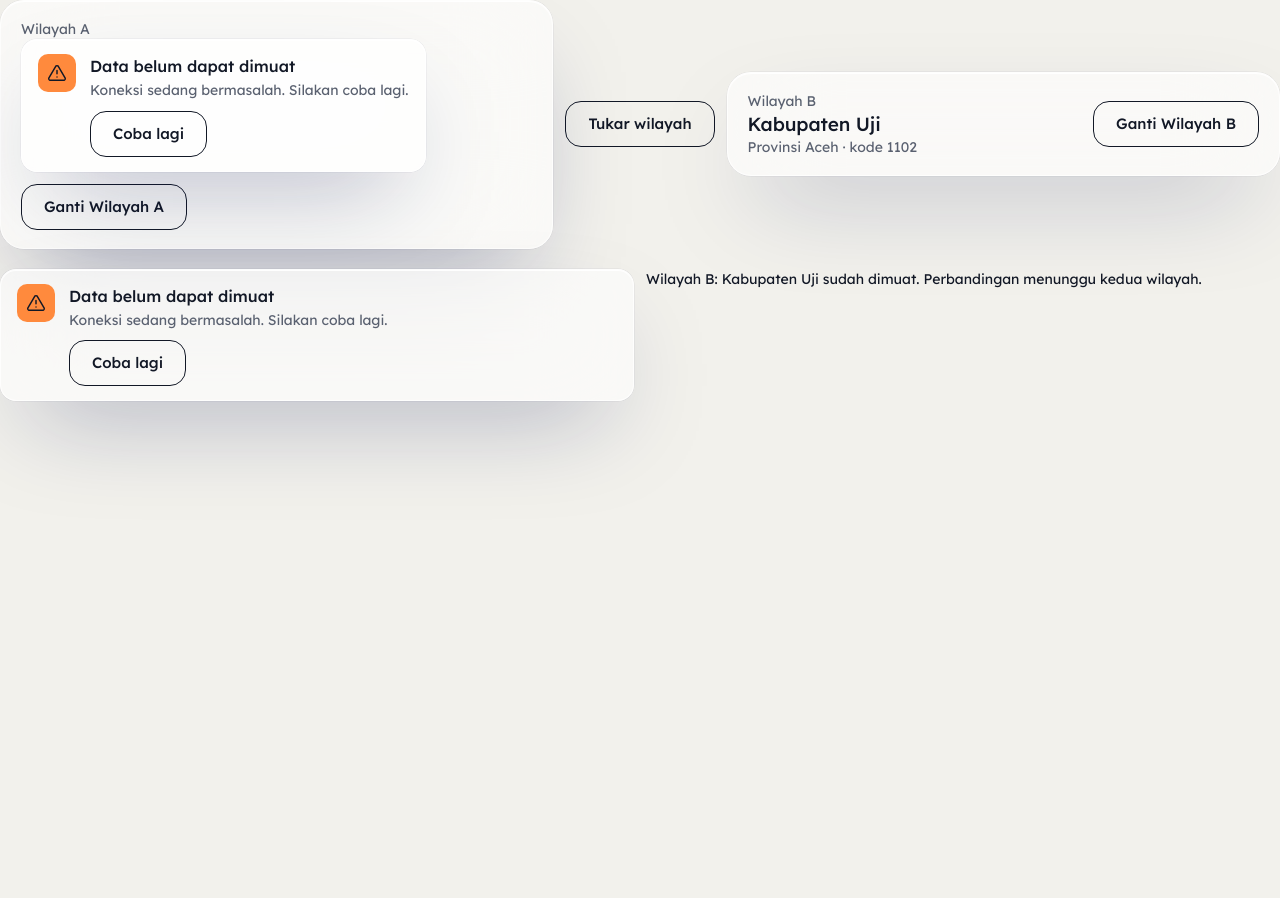
Test: RegionComparison on captured LIVE profiles › says which region failed, keeps the other one, and recovers on retry
Expected: the text "Wilayah B: Kabupaten Uji sudah dimuat. Perbandingan menunggu kedua wilayah." is shown, [646,269,1279,289]
What coordinates should you click on to do the following:
click the 2nd button "Coba lagi"
I would click on:
 (128, 363)
Its box is [69,340,186,386].
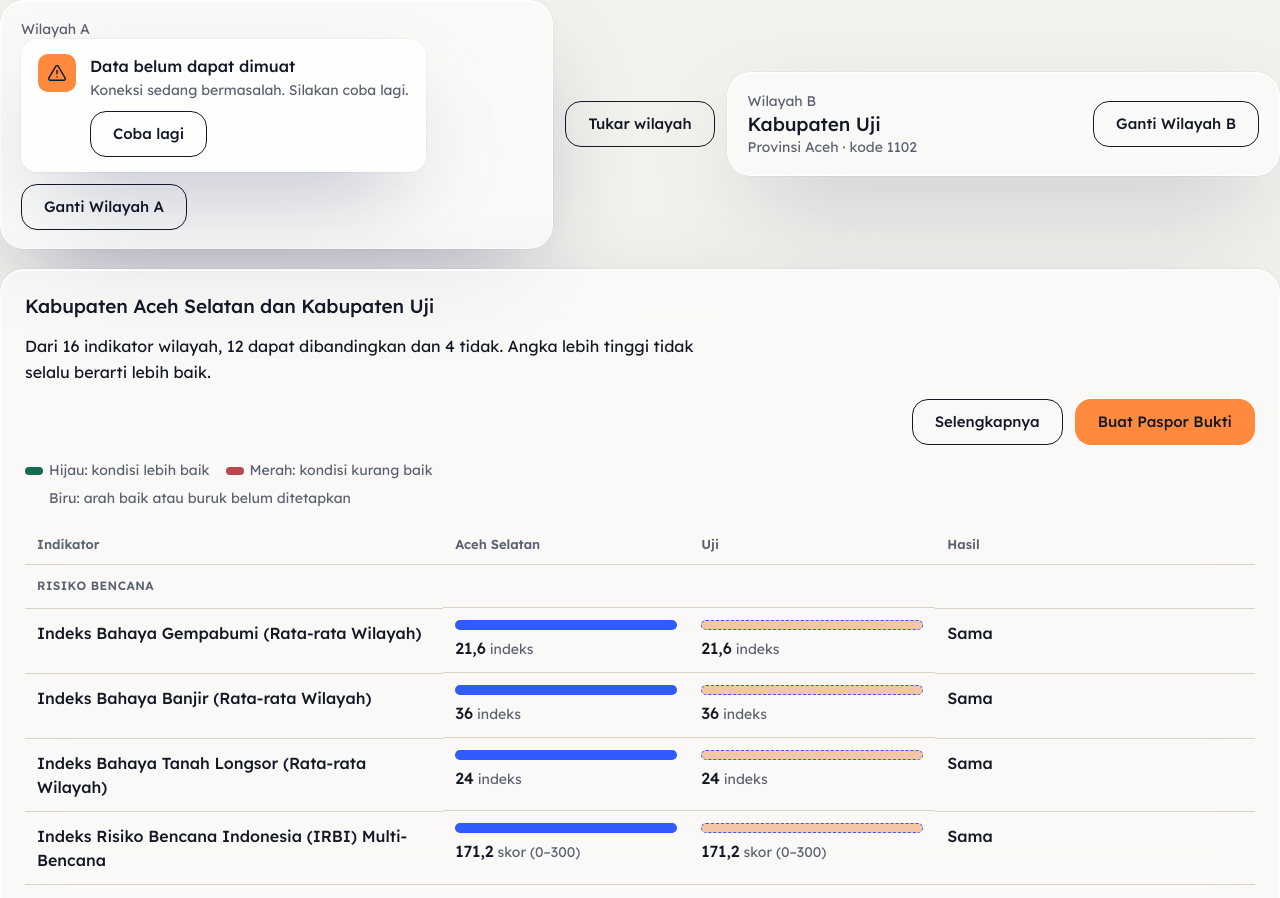
Expected: the text "Dari 16 indikator wilayah" is shown, [25,333,724,386]
